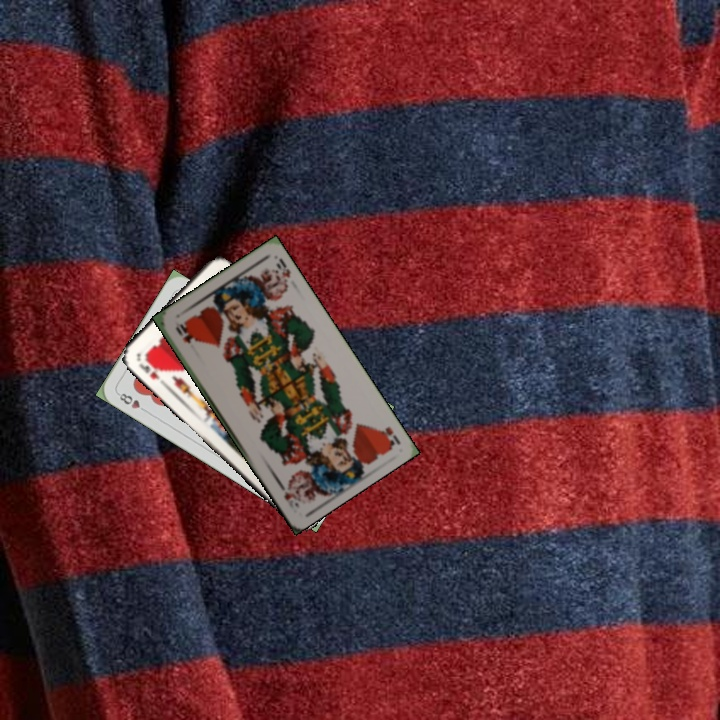H8: (114, 389, 150, 415)
HK: (135, 351, 165, 387)
HO: (375, 423, 403, 451), (171, 319, 194, 346)
